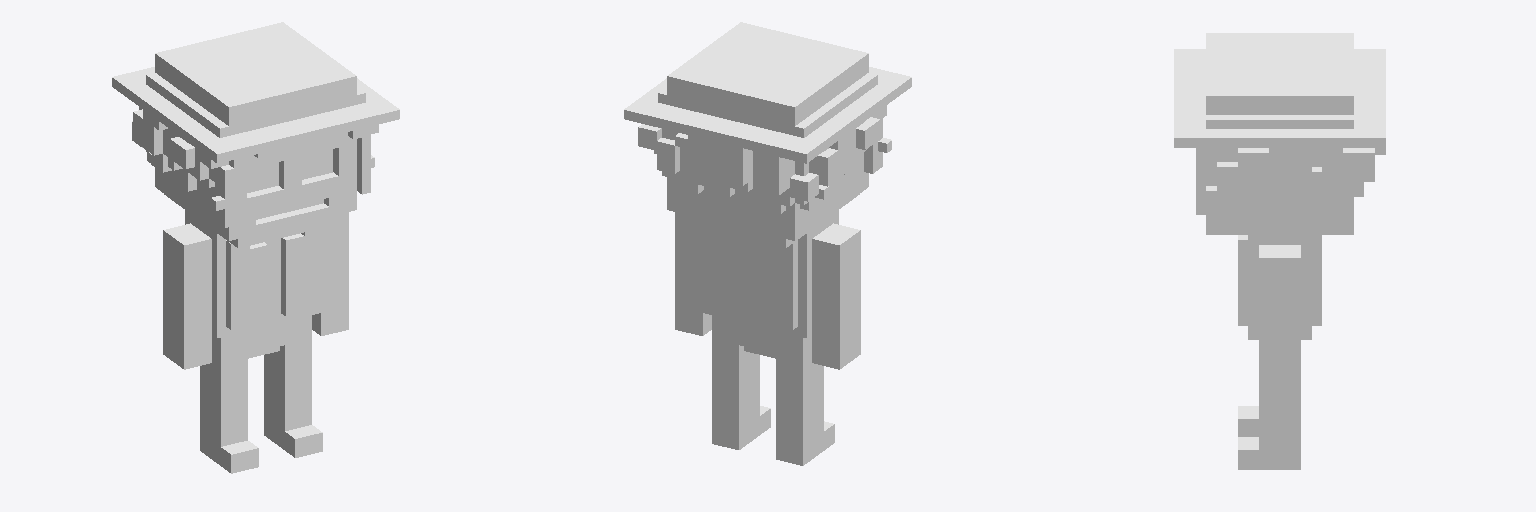
File: pirate3.obj
The picture shows the model from 3 angles: view 1: azimuth 30°, elevation 25°; view 2: azimuth 150°, elevation 25°; view 3: azimuth 270°, elevation 25°; orthographic projection.
Parts seen in each view (by area): view 1: object 1; view 2: object 1; view 3: object 1.
Part boxes in pixels (left/top/right/bottom): object 1: left=112, top=22, right=399, bottom=473; object 1: left=624, top=22, right=911, bottom=465; object 1: left=1174, top=33, right=1385, bottom=469.
Bounding box in the file's own units: 2 × 4 × 2.